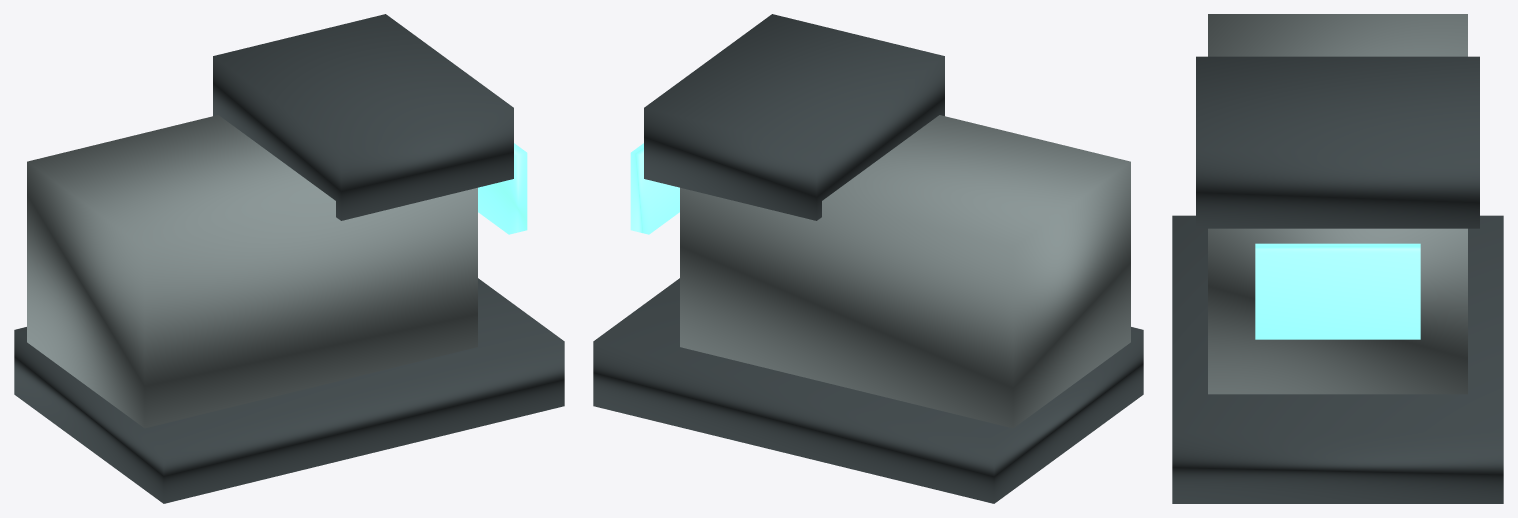
Rendered from spin-habitat-bearing-control-lod2.glb.
3 renders of one model, left to right at view 1: azimuth 30°, elevation 25°; view 2: azimuth 150°, elevation 25°; view 3: azimuth 270°, elevation 25°, orthographic. The views are drawn at different scales.
Visible parts, largest first — view 1: spin-habitat-bearing-control-cradle, spin-habitat-bearing-control-skid, spin-habitat-bearing-control-spindle, spin-habitat-interactable-status; view 2: spin-habitat-bearing-control-cradle, spin-habitat-bearing-control-skid, spin-habitat-bearing-control-spindle, spin-habitat-interactable-status; view 3: spin-habitat-bearing-control-spindle, spin-habitat-bearing-control-skid, spin-habitat-bearing-control-cradle, spin-habitat-interactable-status.
Part boxes in pixels (<box>): spin-habitat-bearing-control-cradle: <box>27,115,477,428</box>; spin-habitat-bearing-control-skid: <box>14,278,564,503</box>; spin-habitat-bearing-control-spindle: <box>213,14,513,220</box>; spin-habitat-interactable-status: <box>478,143,527,234</box>; spin-habitat-bearing-control-cradle: <box>680,115,1130,428</box>; spin-habitat-bearing-control-skid: <box>593,278,1143,503</box>; spin-habitat-bearing-control-spindle: <box>644,14,944,220</box>; spin-habitat-interactable-status: <box>630,143,679,234</box>; spin-habitat-bearing-control-spindle: <box>1196,56,1479,228</box>; spin-habitat-bearing-control-skid: <box>1172,215,1503,503</box>; spin-habitat-bearing-control-cradle: <box>1208,14,1467,394</box>; spin-habitat-interactable-status: <box>1255,243,1420,339</box>.
Bounding box in the file's own units: 1.31 × 0.93 × 0.84.
